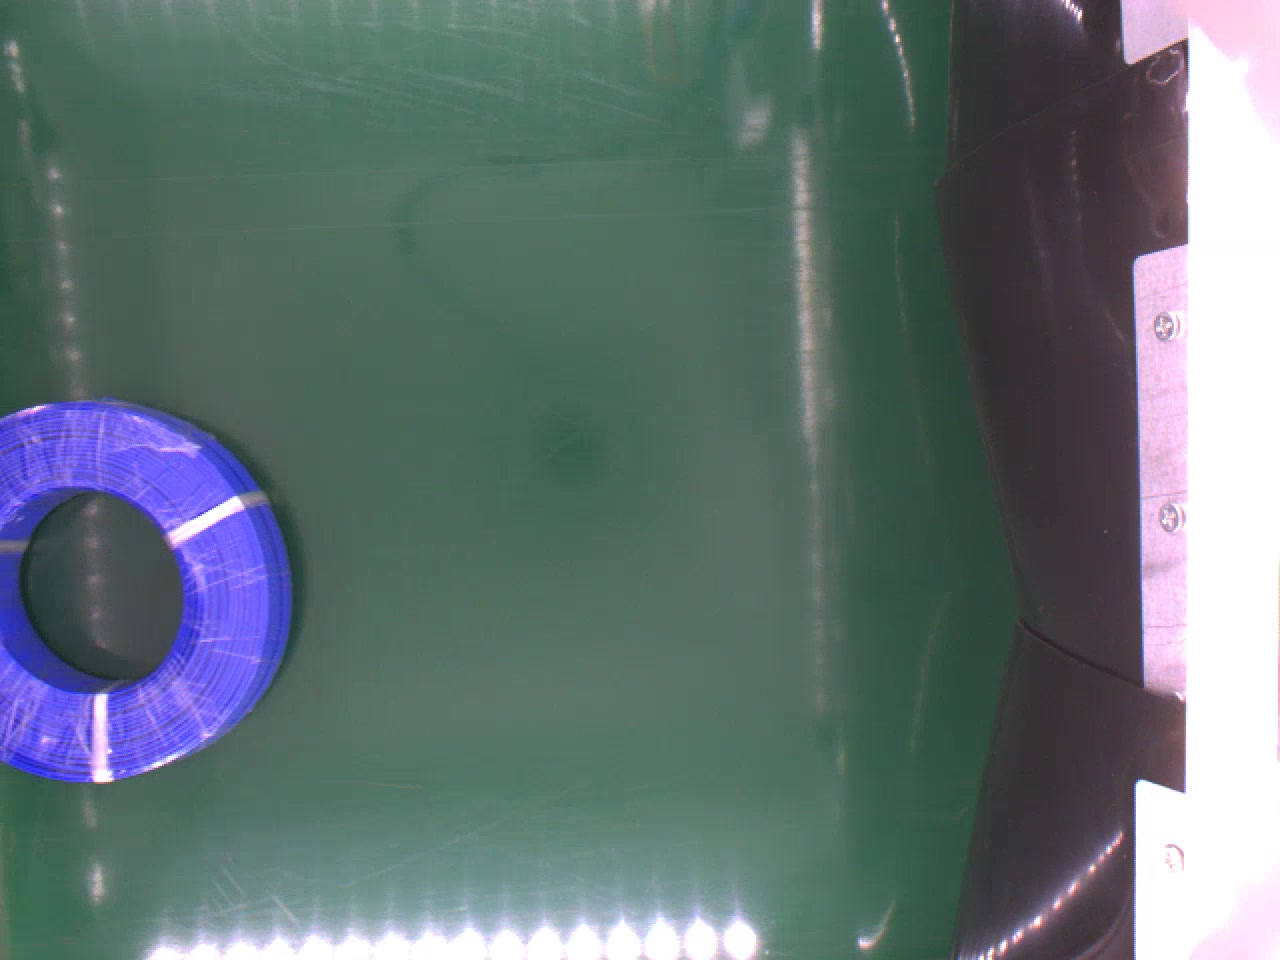blue: (0, 393, 289, 777)
